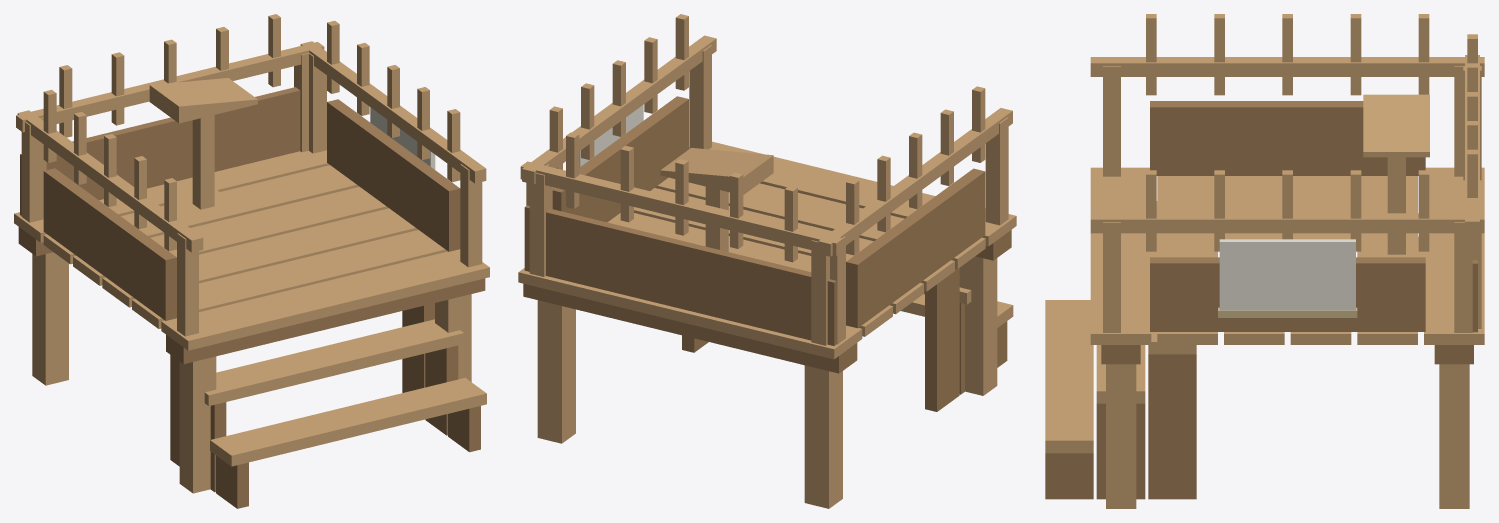
File: heralds-platfo.glb
3 views of the same model, side by side, from view 1: azimuth 30°, elevation 25°; view 2: azimuth 150°, elevation 25°; view 3: azimuth 270°, elevation 25° (orthographic). The views are drawn at different scales.
Visible parts, largest first — view 1: heralds-platform; view 2: heralds-platform; view 3: heralds-platform.
Part boxes in pixels (x1,y1,x2,y2): heralds-platform: (14, 14, 489, 508); heralds-platform: (518, 14, 1016, 508); heralds-platform: (1045, 14, 1484, 508).
Bounding box in the file's own units: 2.63 × 2.46 × 2.9.
